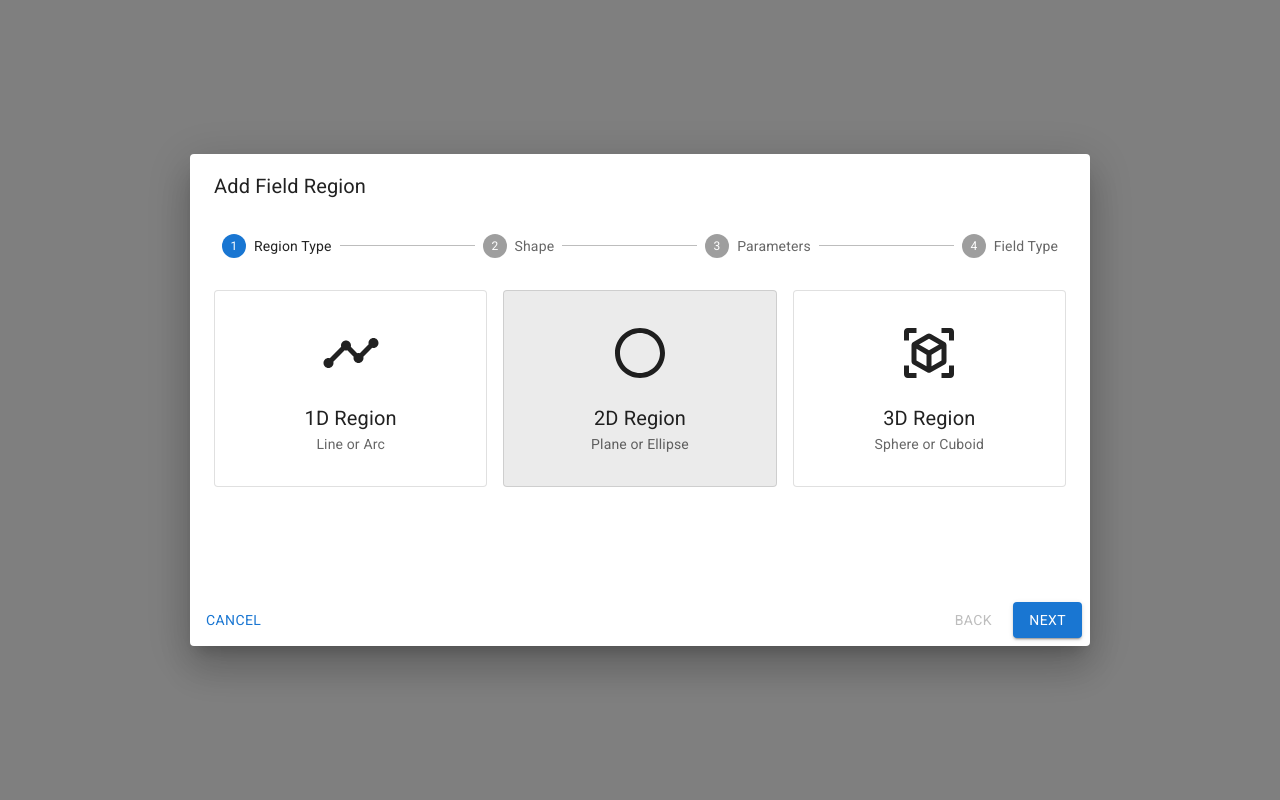
AddFieldDialog - T4.B1.2 › Step Navigation › shows Create button on last step
Navigate to last step
Click the button "Next".
click(1048, 620)  # box [1013, 602, 1082, 638]
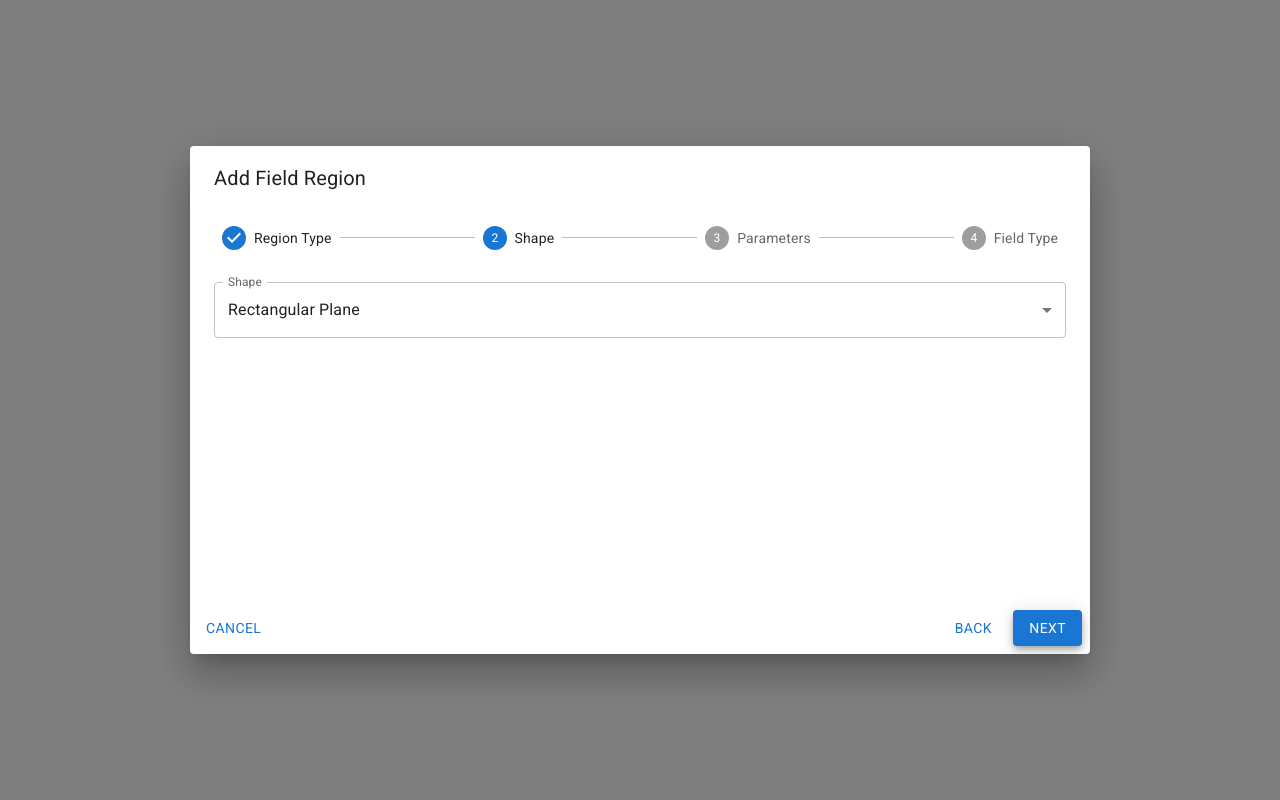
Click the button "Next".
click(1048, 628)  # box [1013, 610, 1082, 646]
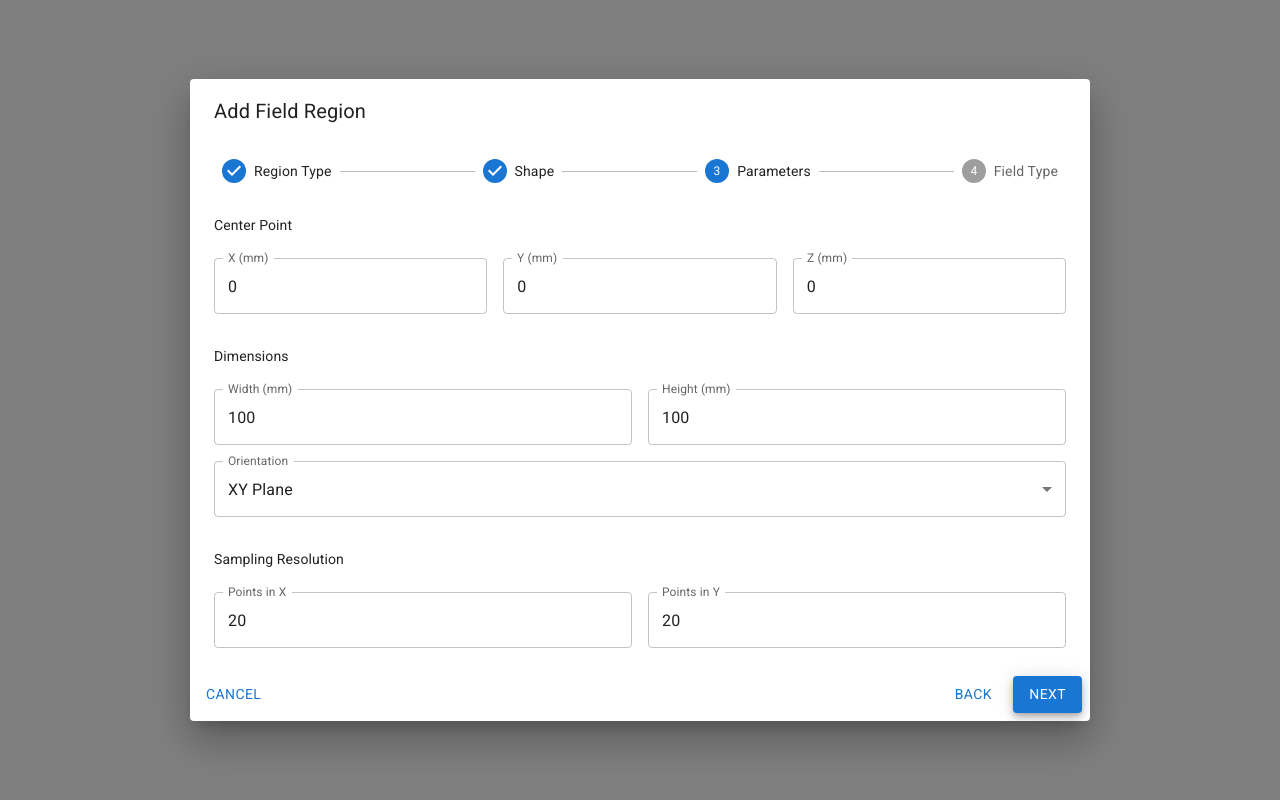
Click the button "Next".
click(1048, 694)  # box [1013, 676, 1082, 712]
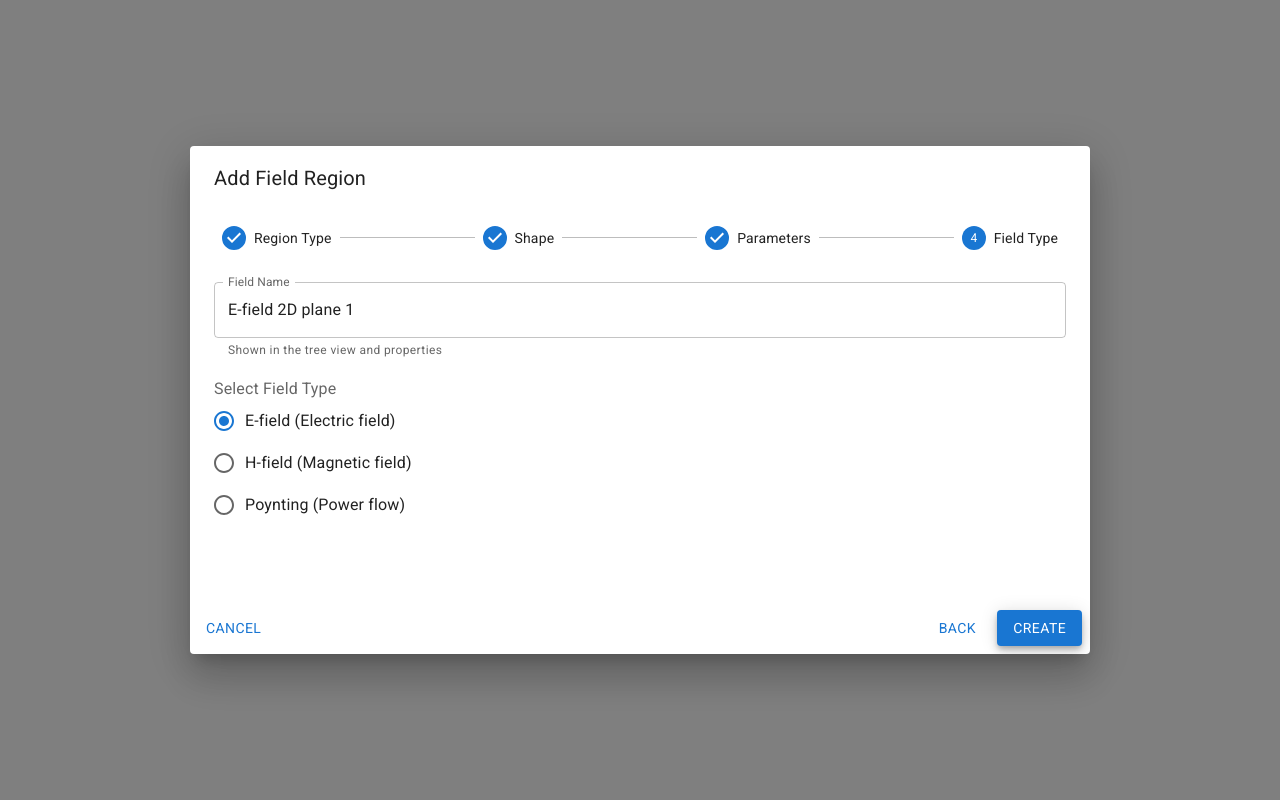
Expected: the button "Create" is shown, [997, 610, 1082, 646]
